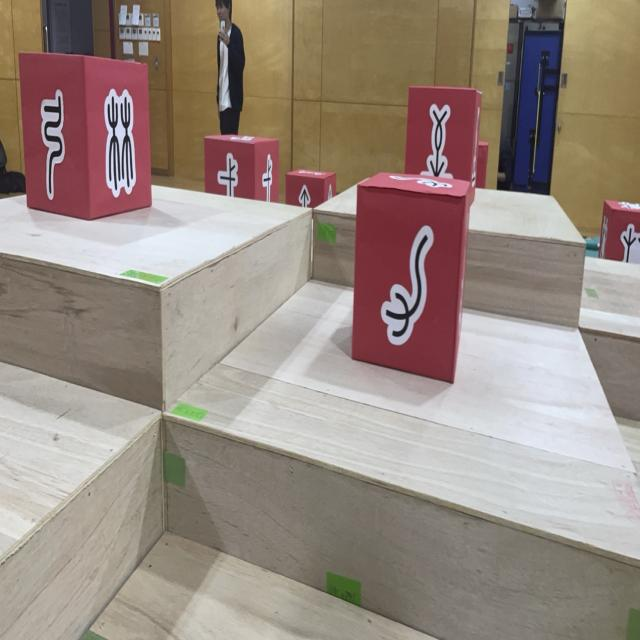12: (297, 184, 312, 208)
13: (382, 224, 434, 346)
2: (104, 89, 138, 199)
3: (41, 87, 66, 204)
6: (618, 223, 640, 264), (599, 215, 608, 258)
7: (420, 102, 453, 180)
9: (216, 151, 239, 199), (261, 152, 274, 201)
fighter: (352, 170, 471, 384), (18, 51, 152, 222), (404, 86, 482, 206), (204, 133, 279, 206), (597, 200, 640, 264), (286, 167, 336, 209), (475, 141, 489, 189)
